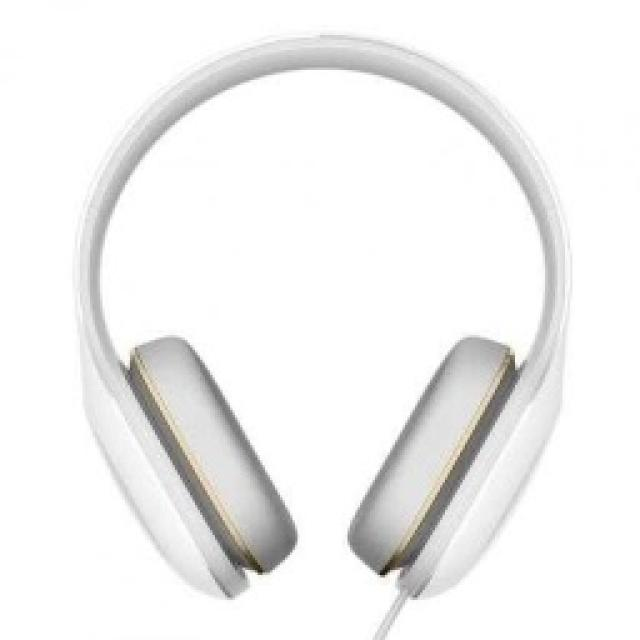headphones: (70, 28, 570, 618)
